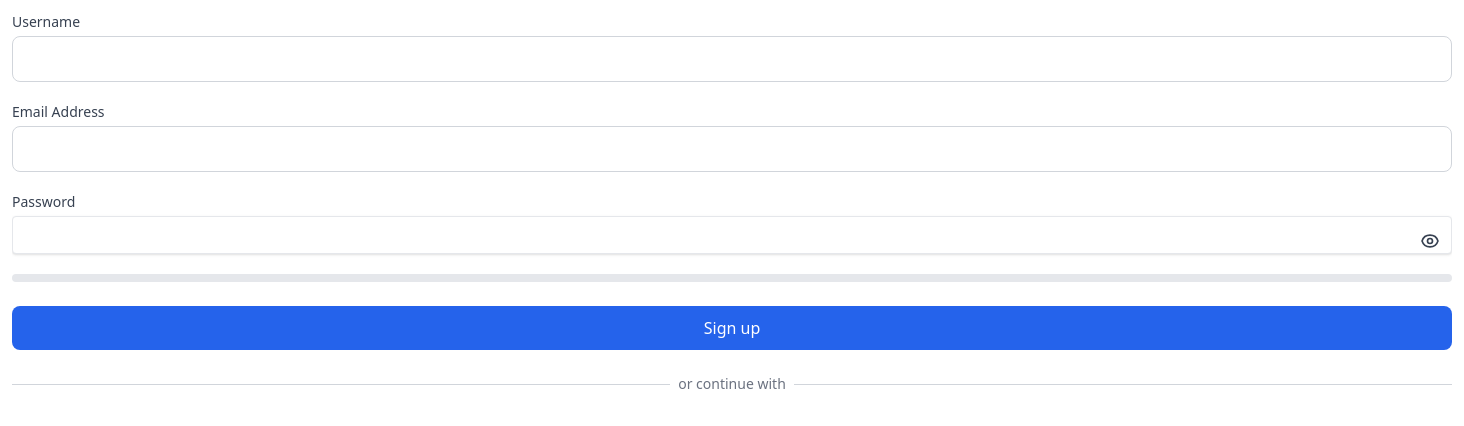
Register Component › Password Strength Meter › shows password strength indicator when typing password
Note: Test weak password
In the password field named "password": [732, 235] box [12,216,1452,254], type "weak"
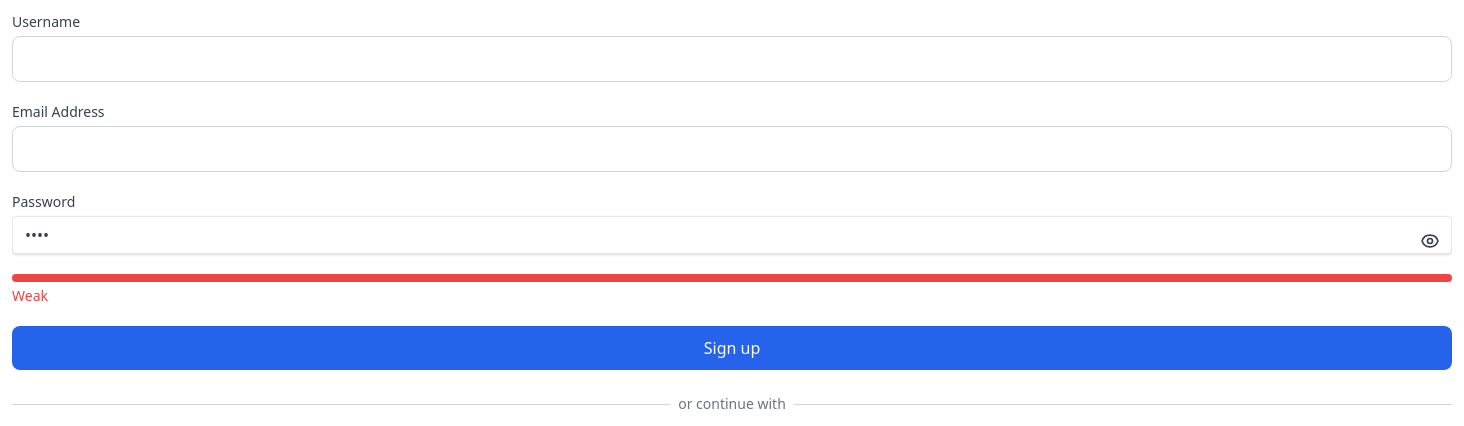
Now the text "Weak" is shown, box [12,286,48,305]
Note: Test stronger password
In the password field named "password": [732, 235] box [12,216,1452,254], type "StrongerP@ss123"
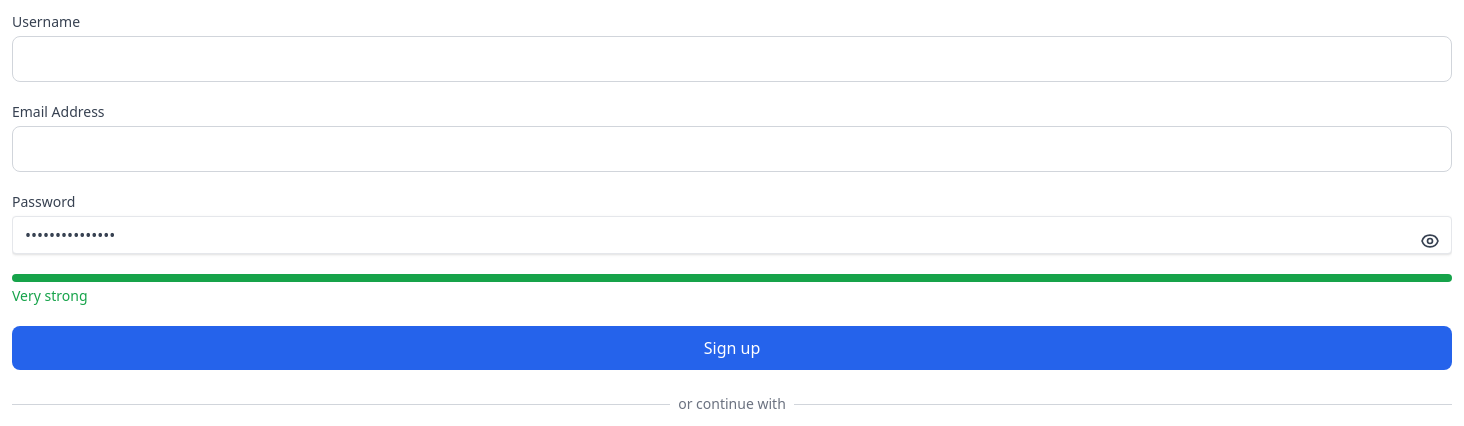
Now the text "Very strong" is shown, box [12,286,88,305]
